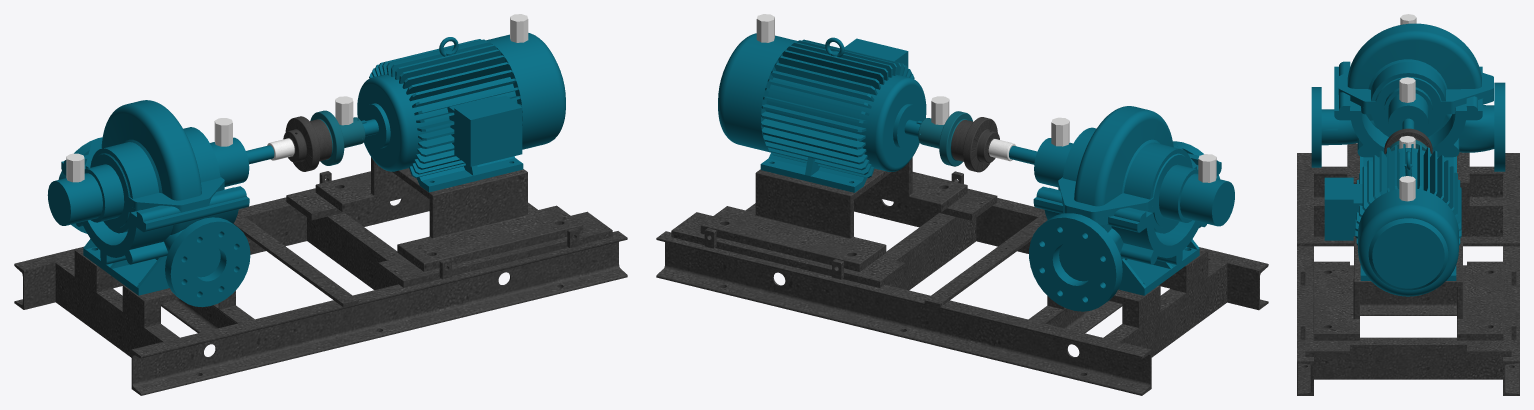
The picture shows the model from 3 angles, left to right: view 1: azimuth 30°, elevation 25°; view 2: azimuth 150°, elevation 25°; view 3: azimuth 270°, elevation 25°; orthographic projection. The views are drawn at different scales.
Parts seen in each view (by area): view 1: Base, Pump, Motor, Coupling, Sensor1; view 2: Base, Pump, Motor, Coupling, Sensor1.001; view 3: Base, Pump, Motor, Coupling, Sensor1.003, Sensor1.001.
Part boxes in pixels (x1,y1,x2,y2): Base: [14, 157, 627, 395]; Pump: [47, 100, 274, 307]; Motor: [357, 33, 565, 192]; Coupling: [267, 110, 365, 171]; Sensor1: [66, 153, 84, 182]; Base: [656, 157, 1268, 395]; Pump: [1009, 106, 1234, 311]; Motor: [718, 33, 926, 192]; Coupling: [918, 111, 1015, 172]; Sensor1.001: [1051, 117, 1069, 146]; Base: [1297, 143, 1519, 395]; Pump: [1311, 23, 1505, 172]; Motor: [1324, 144, 1461, 296]; Coupling: [1384, 128, 1432, 154]; Sensor1.003: [1399, 176, 1415, 201]; Sensor1.001: [1399, 77, 1415, 102].
Bounding box in the file's own units: 12.4 × 5.27 × 5.4.
Materials: 4 (2 with a texture image).
